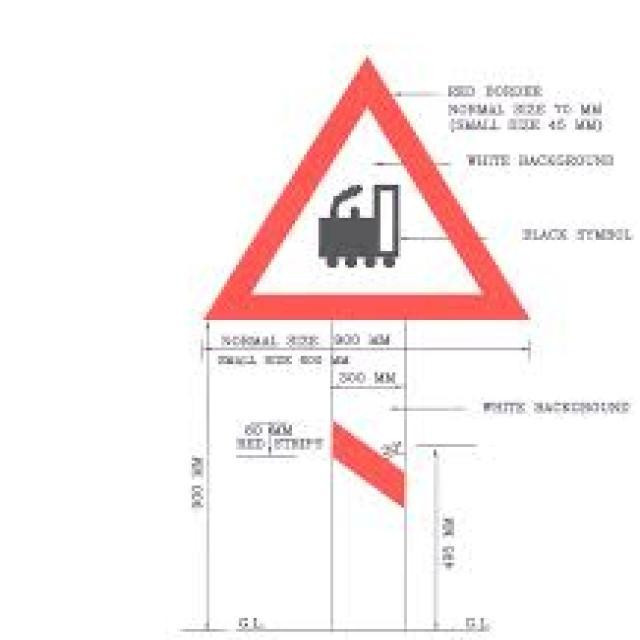unguarded level crossing: (202, 53, 531, 322)
